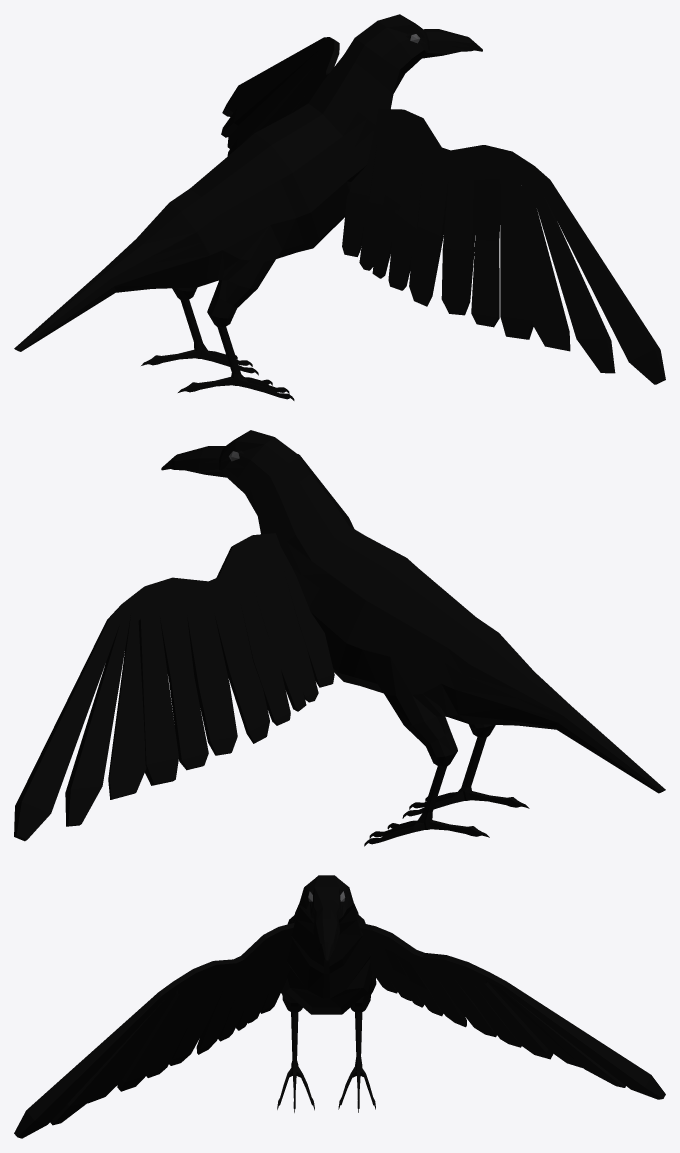
File: crow_with_wings_slightly_downwards.obj
3 views of the same model, one above another, from view 1: azimuth 30°, elevation 25°; view 2: azimuth 150°, elevation 25°; view 3: azimuth 270°, elevation 25° (orthographic). The views are drawn at different scales.
Parts seen in each view (by area): view 1: Cylinder; view 2: Cylinder; view 3: Cylinder.
Part boxes in pixels (x1,y1,x2,y2): Cylinder: (14, 14, 665, 400); Cylinder: (14, 430, 665, 846); Cylinder: (14, 875, 665, 1138).
Bounding box in the file's own units: 1.55 × 1.02 × 2.11.
